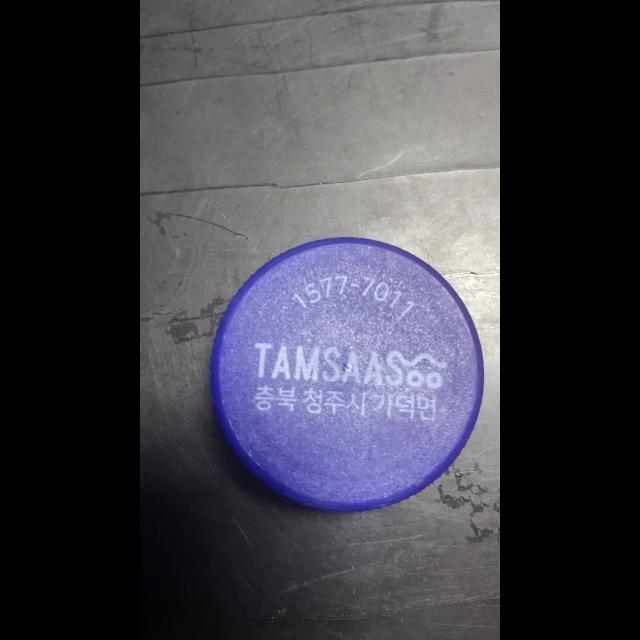plastic_bottle_cap: (195, 227, 491, 516)
